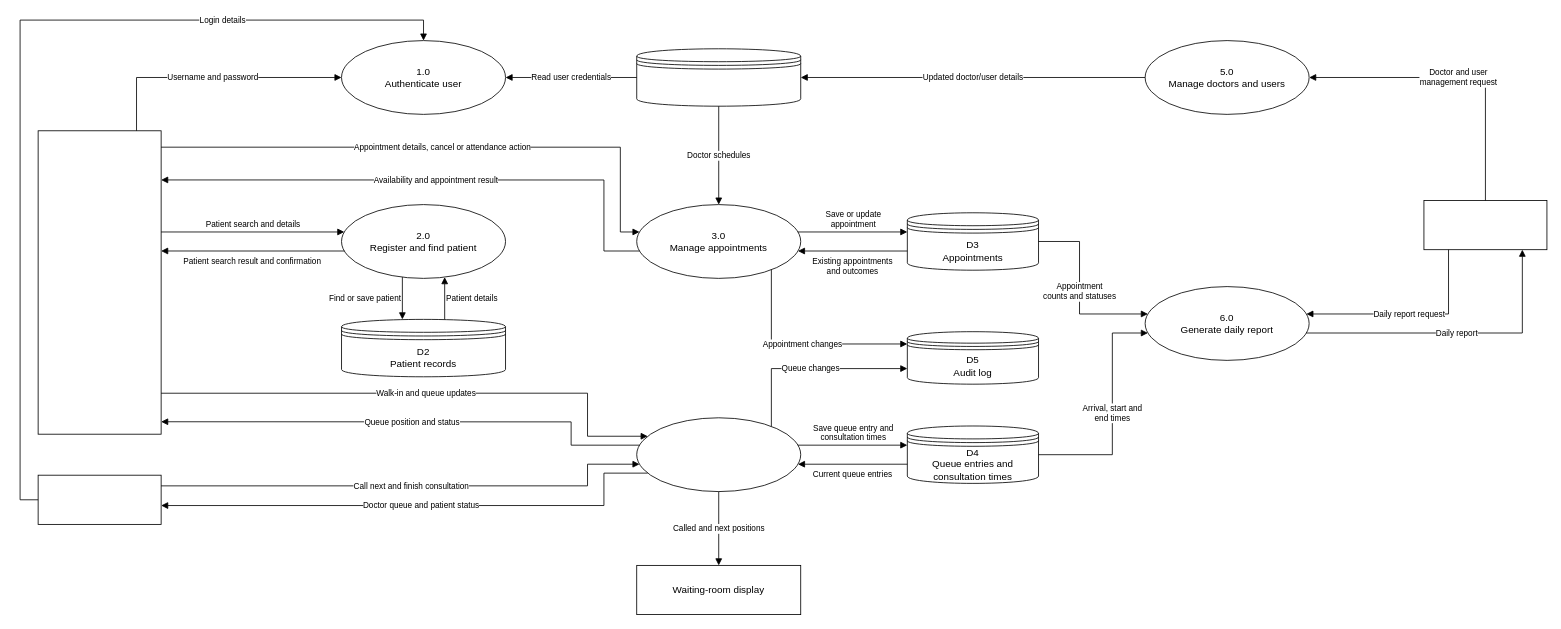
Some shapes in this 1561 by 629 pixel diagram are drawn without their labels. Each missing label, with the centre of its shape:
"4.0 Manage queue and consultations" goes at pixel 718 454.
"Clinic owner" goes at pixel 1485 225.
"D1 Users and doctor schedules" goes at pixel 718 77.
"Doctor" goes at pixel 99 499.
"Receptionist" goes at pixel 99 282.
